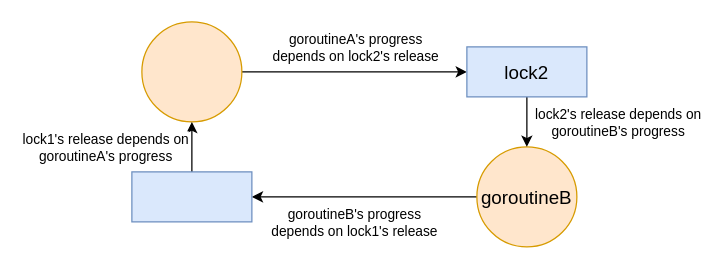
The diagram is 721 pixels wide and 269 high, and some of its shapes have lost their labels. Each missing label, with the centre of its shape:
"goroutineA" belongs at point 191,71.
"lock1" belongs at point 191,196.
